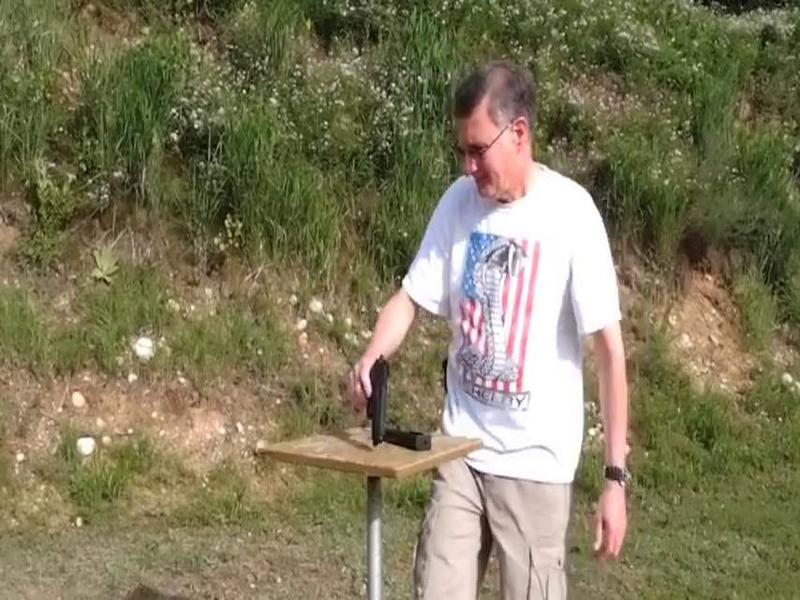Pistola: (335, 343, 405, 455)
